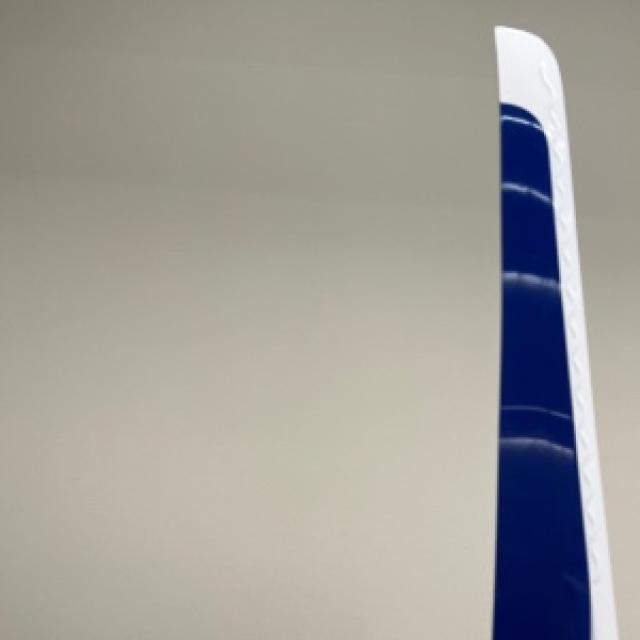healthy: (491, 26, 614, 638)
